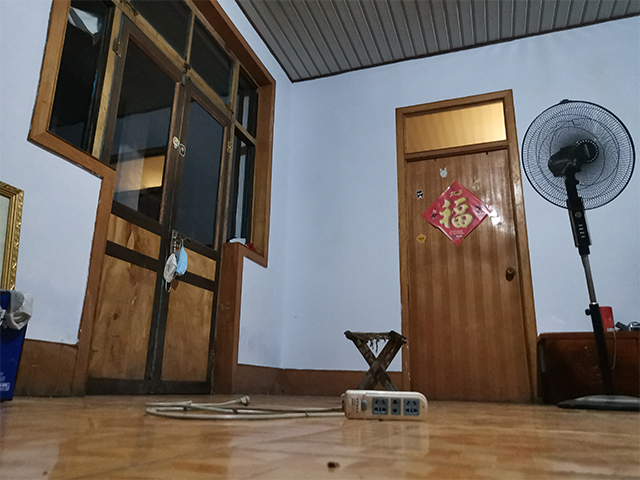cabinet: (533, 328, 640, 409)
stool: (341, 328, 411, 391)
wire: (144, 388, 430, 422)
